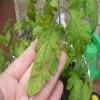Tomato leaf bacterial spot: (25, 15, 63, 97), (63, 4, 87, 61)
